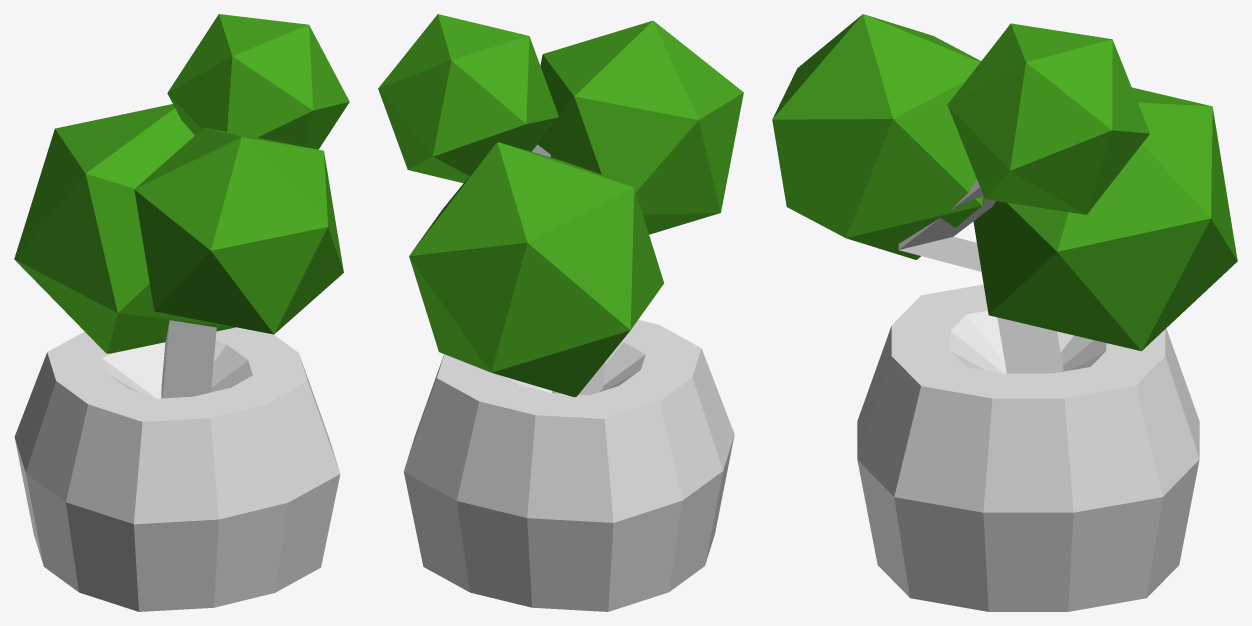
Rendered from potted_plant_01.fbx.
3 renders of one model, left to right at view 1: azimuth 30°, elevation 25°; view 2: azimuth 150°, elevation 25°; view 3: azimuth 270°, elevation 25°, orthographic. The views are drawn at different scales.
Visible parts, largest first — view 1: Cube.004; view 2: Cube.004; view 3: Cube.004.
Part boxes in pixels (x1,y1,x2,y2): Cube.004: [14, 14, 349, 611]; Cube.004: [378, 14, 743, 611]; Cube.004: [772, 14, 1237, 611].
Size of the model in its own units: 25.84 by 41.36 by 31.29.
